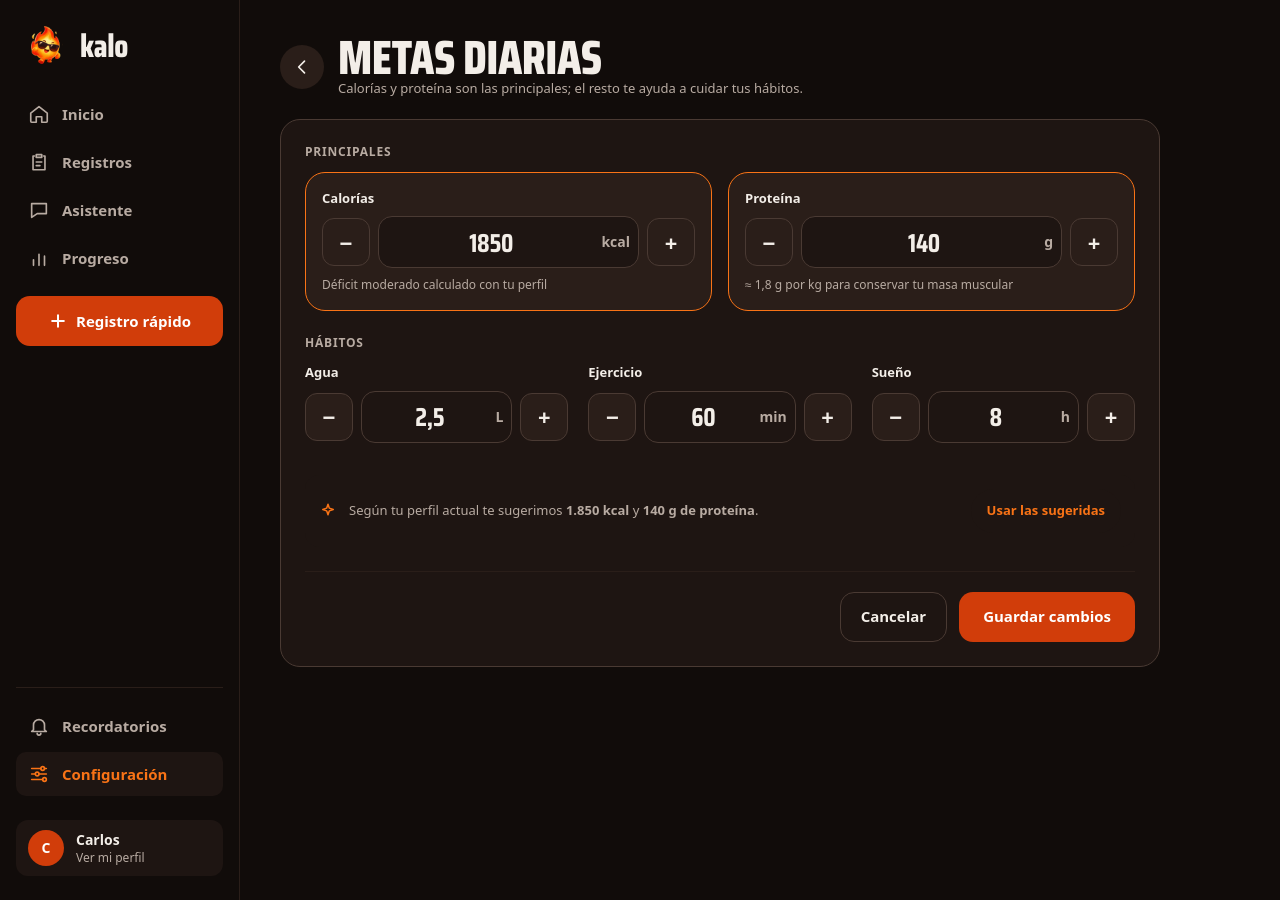
Test: Recordatorios y Configuración › editar las metas desde Configuración abre su pantalla y parte de las guardadas
Expected: the heading "Metas diarias" is shown, [338,20,602,95]
Expected: the field labelled "Proteína" holds "140", [810,223,1038,262]
Click the button named "Aumentar proteína".
click(1094, 242)  # box [1070,218,1118,266]
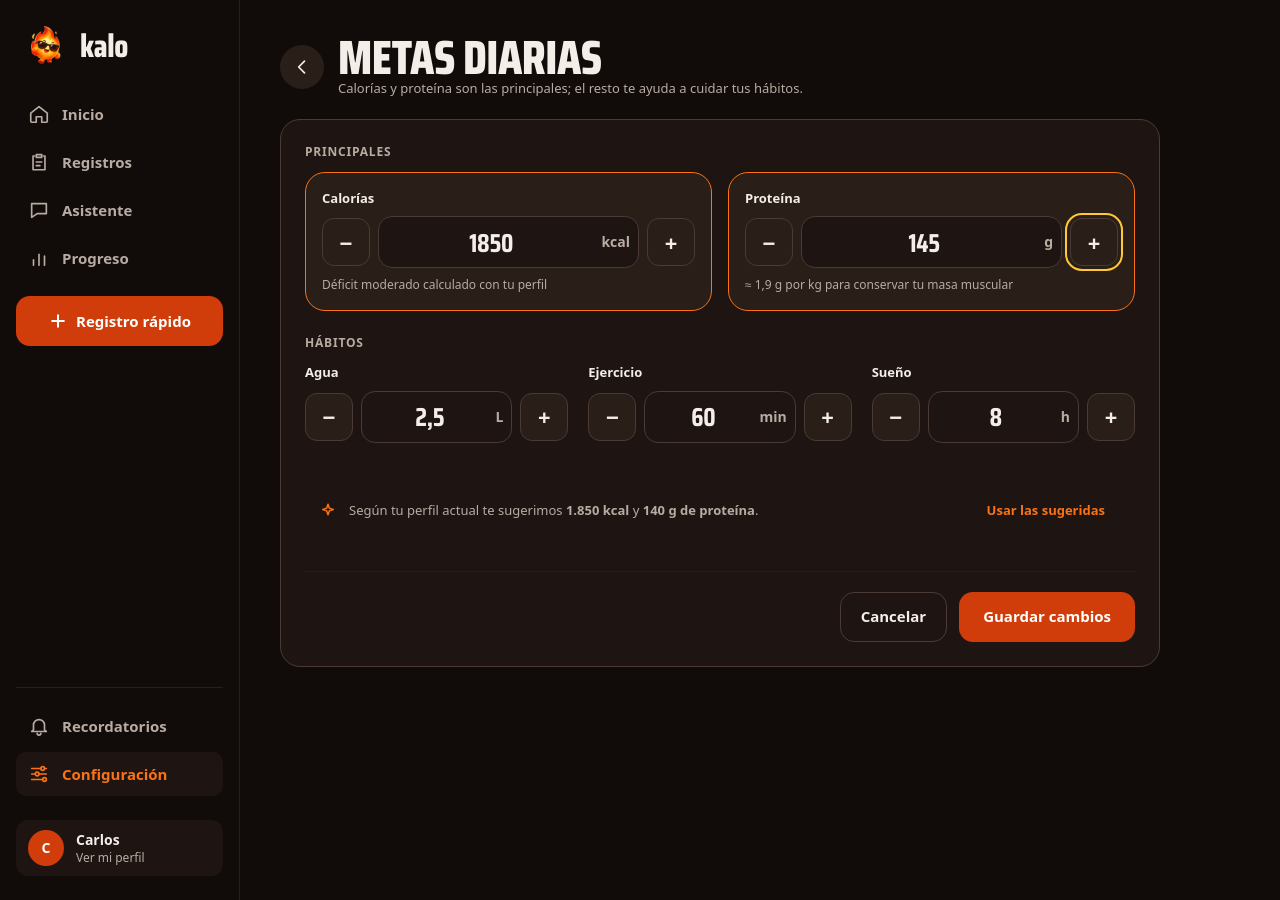
Replace the text in the field labelled "Calorías" with "1900" at (491, 242), box [387,223,595,262]
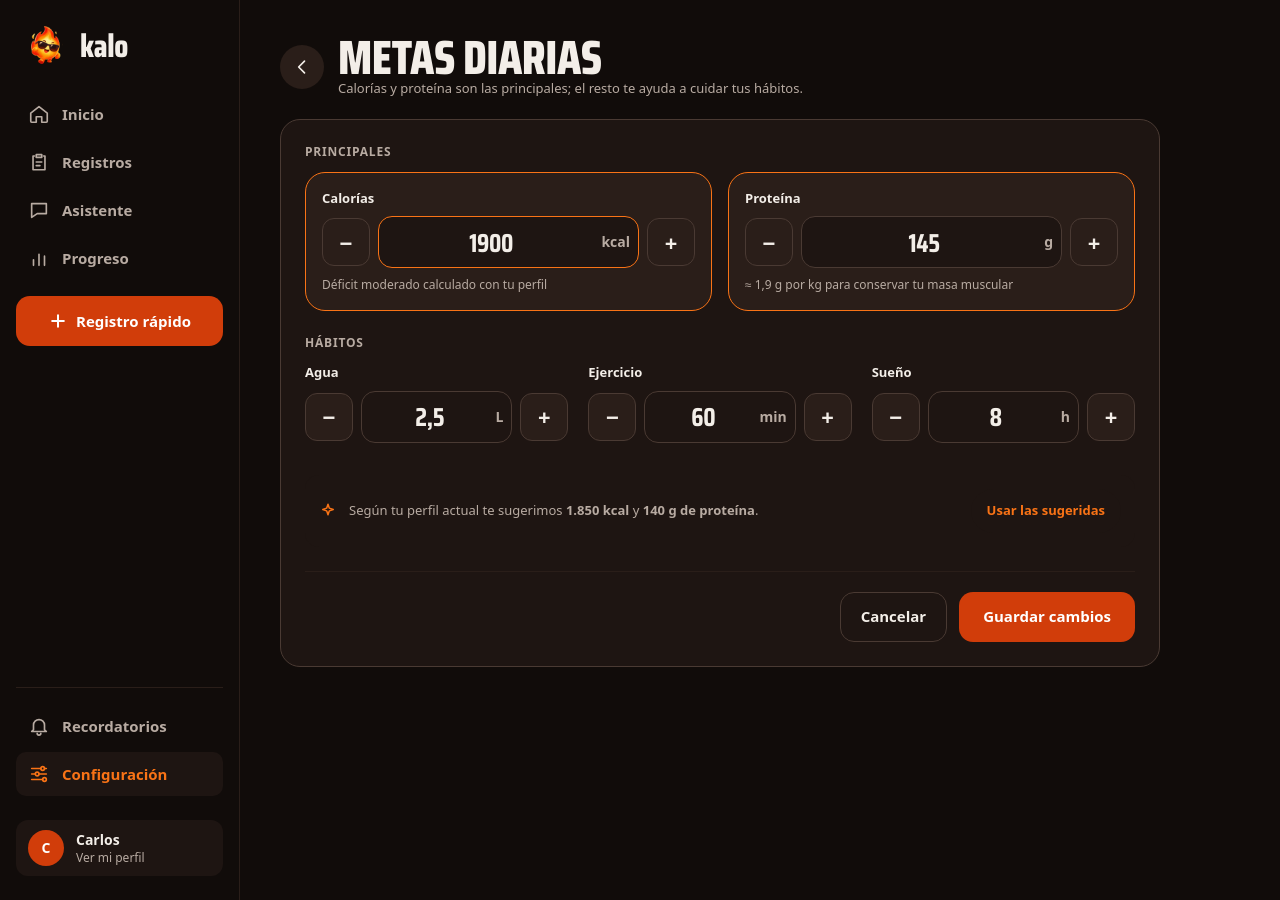
Click the button "Guardar cambios".
click(1047, 617)  # box [959,592,1135,642]
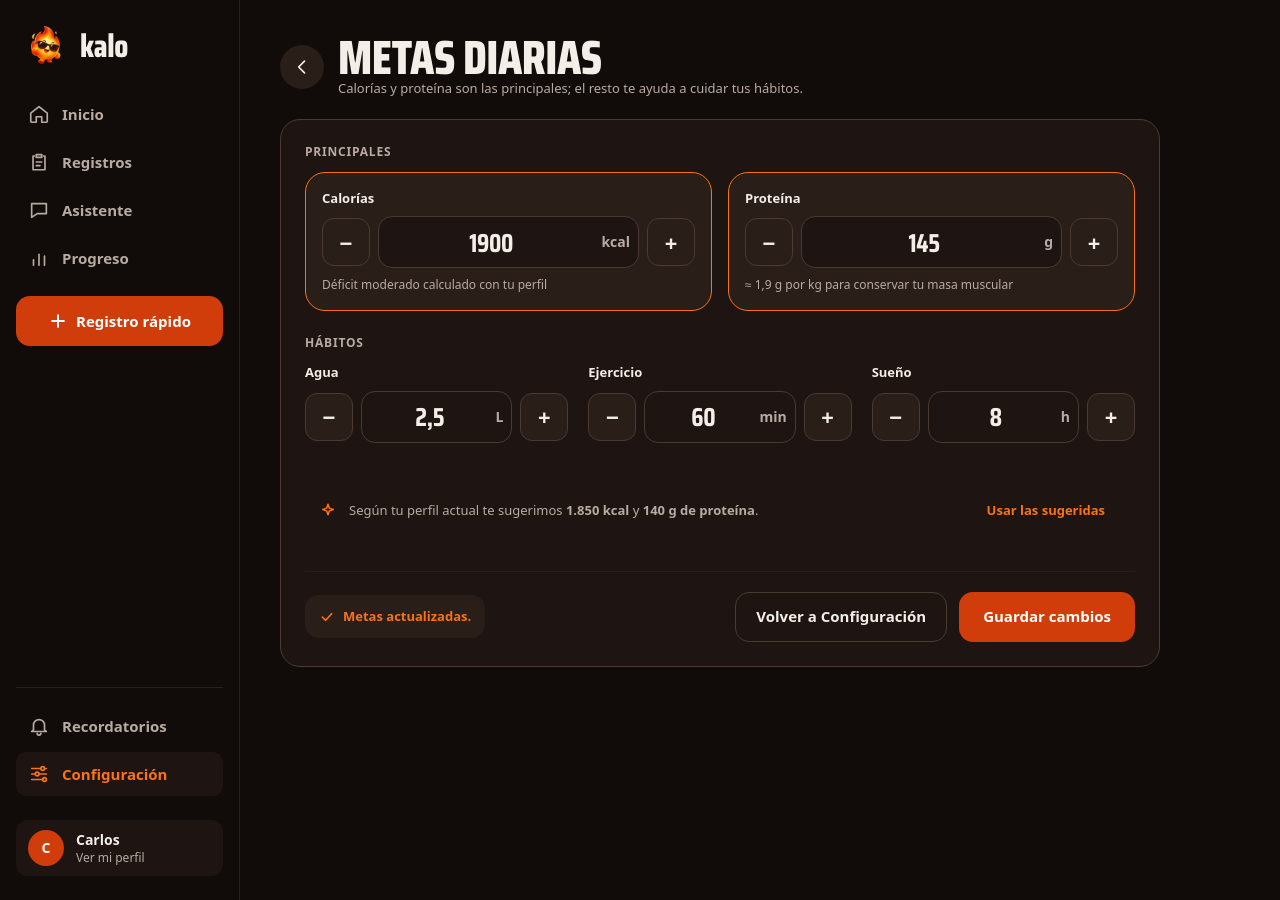
Now the text "Metas actualizadas." is shown, box [305,595,485,638]
